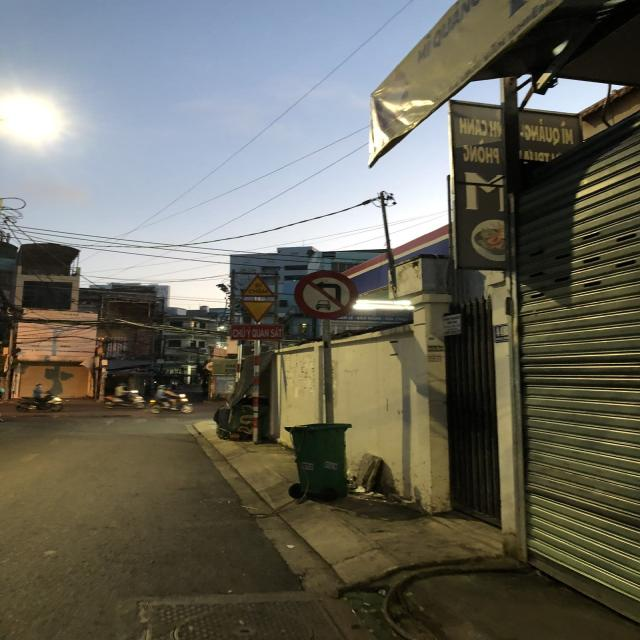Bien bao cam xe o to re trai: (292, 270, 358, 320)
Bien bao di cham: (241, 275, 279, 299)
Bien bao giao nhau voi duong uu tien: (235, 298, 276, 324)
